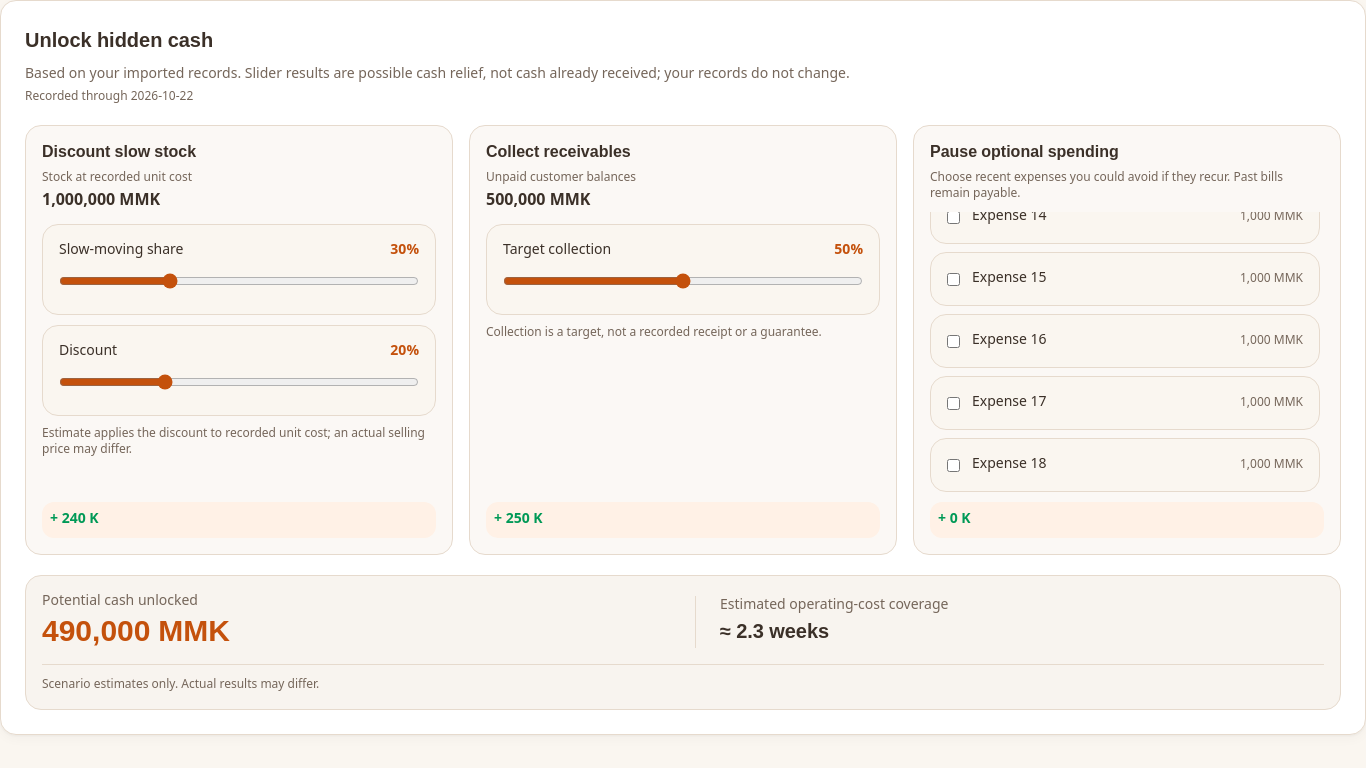
Test case: UnlockCashSimulator › keeps every expense selectable in a bounded, keyboard-focusable list
The width and height of the screenshot is (1366, 768).
(page scrolled)
Check: the slider labelled "Target collection 50%" is shown, box [503,273,863,289]
Step 1. Click the checkbox labelled "Expense 18 1,000 MMK" → (954,465), box [947,458,960,472]
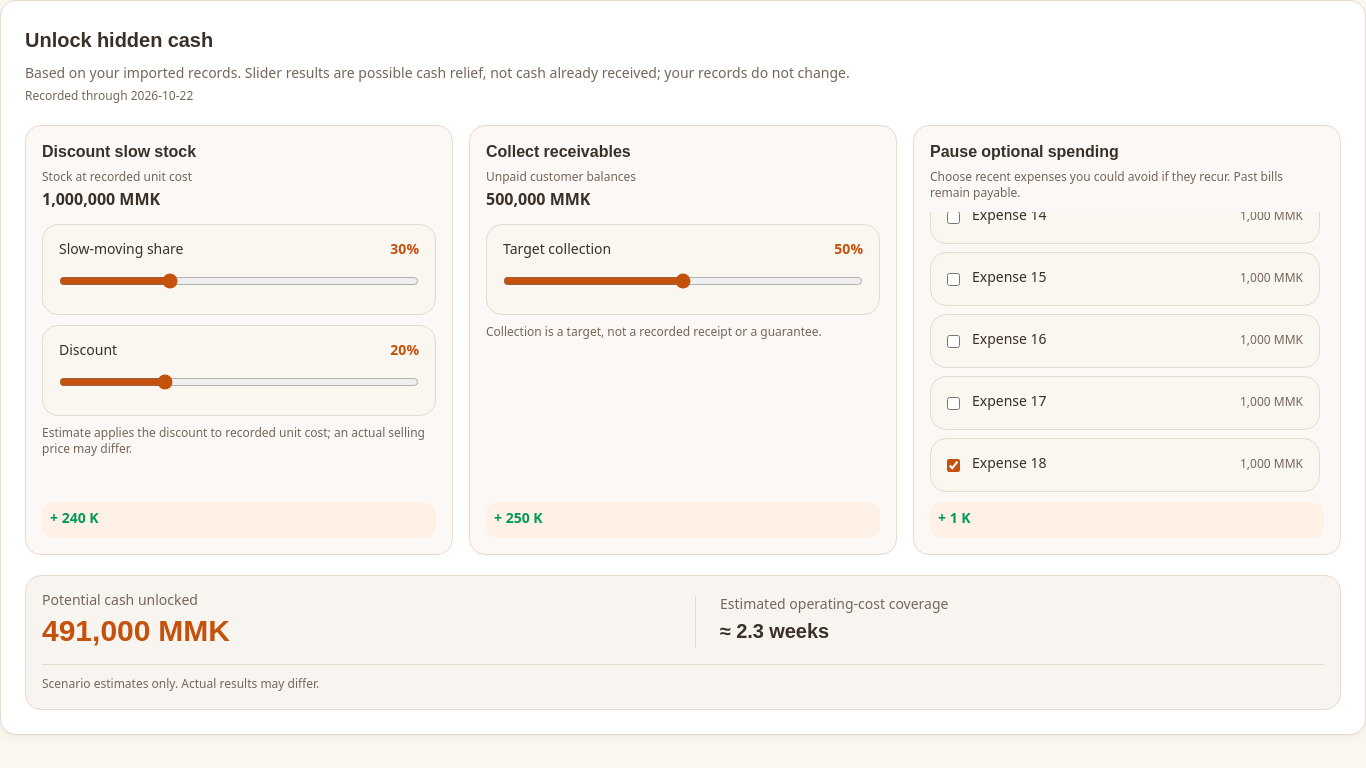
Check: the text "+ 1 K" is shown, box [930,502,1324,538]
